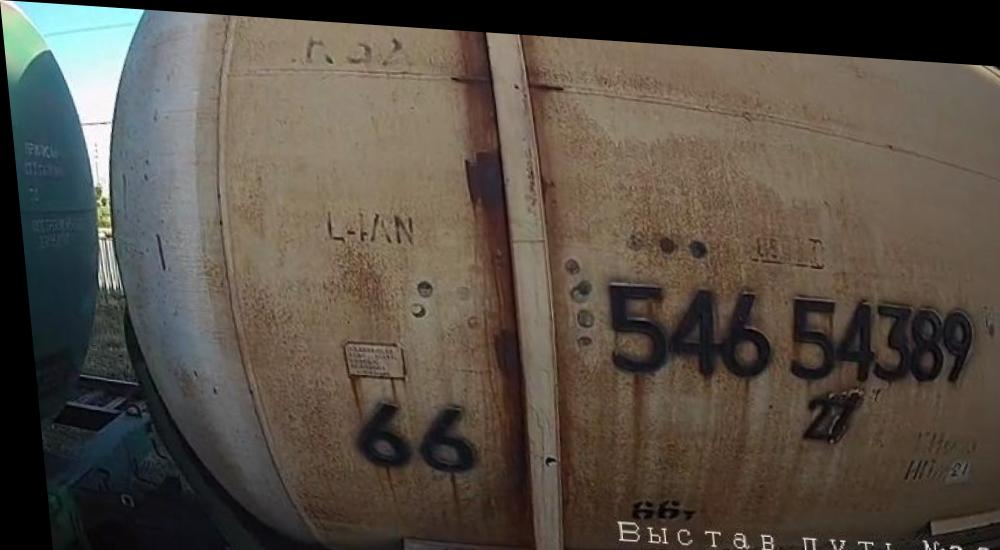Wagon-number: (596, 268, 982, 390)
